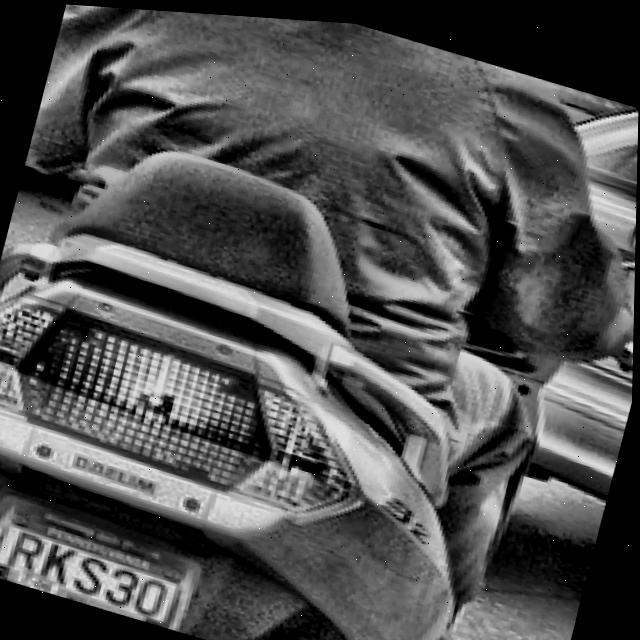light_vehicle: (422, 62, 639, 530)
